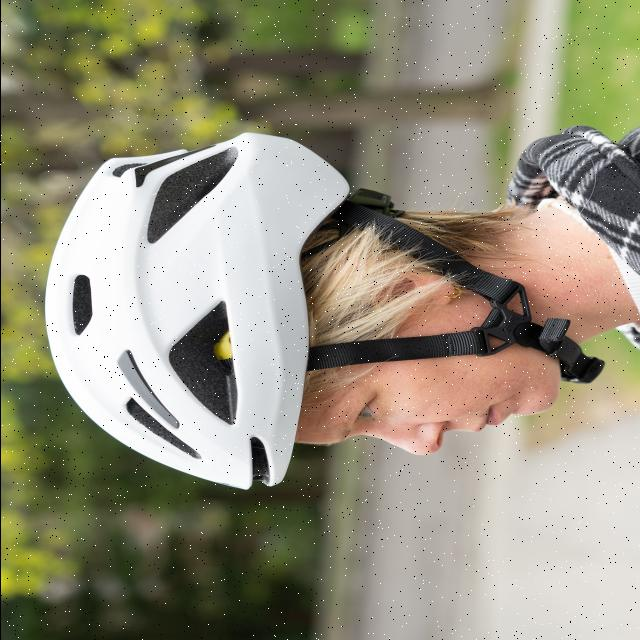Helmet: (42, 128, 365, 508)
